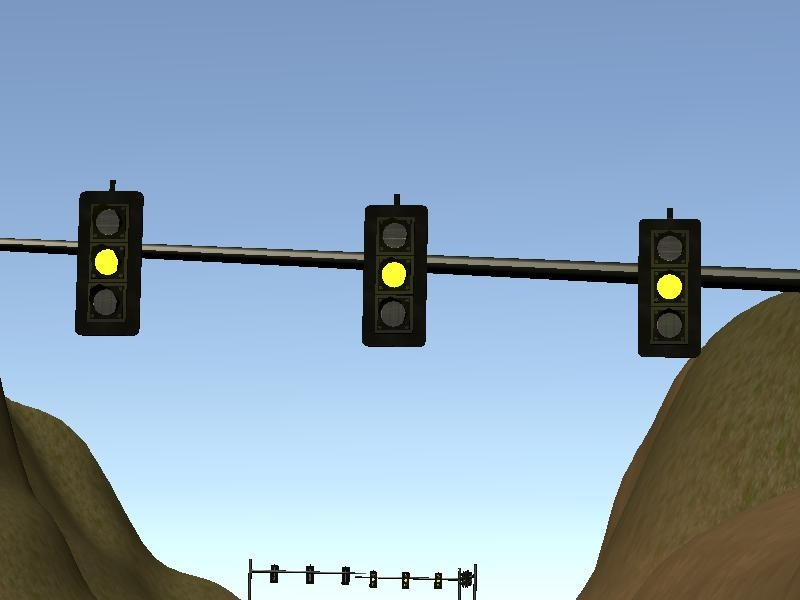yellow: (355, 187, 433, 355), (70, 175, 147, 343), (628, 202, 707, 364)
